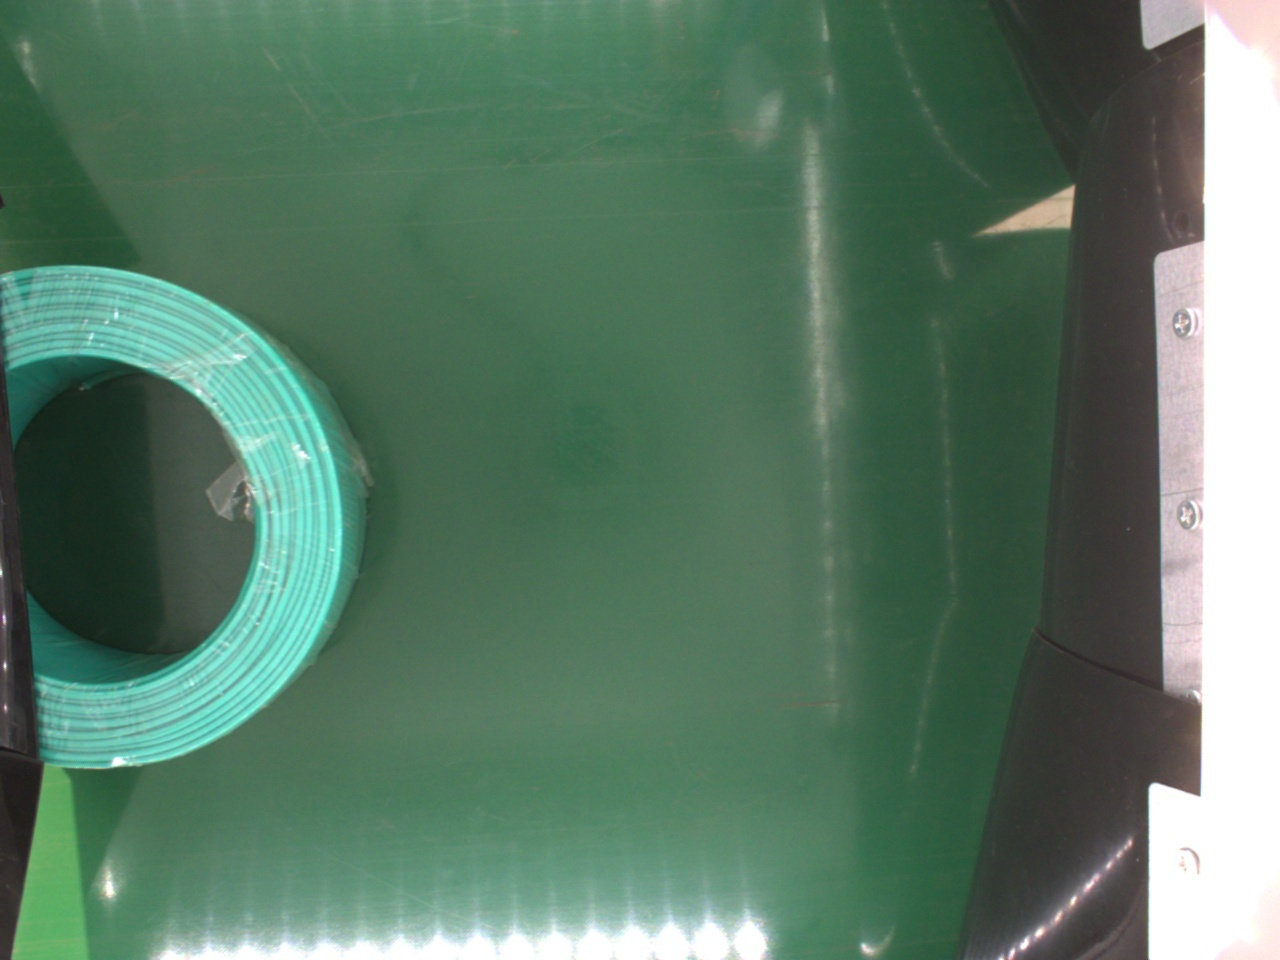green: (0, 261, 370, 771)
